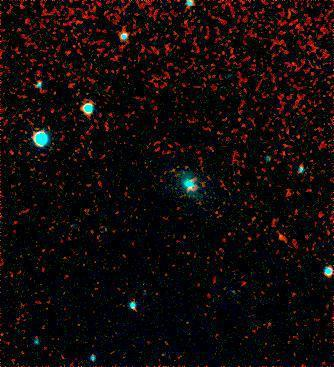star: (267, 223, 297, 253)
